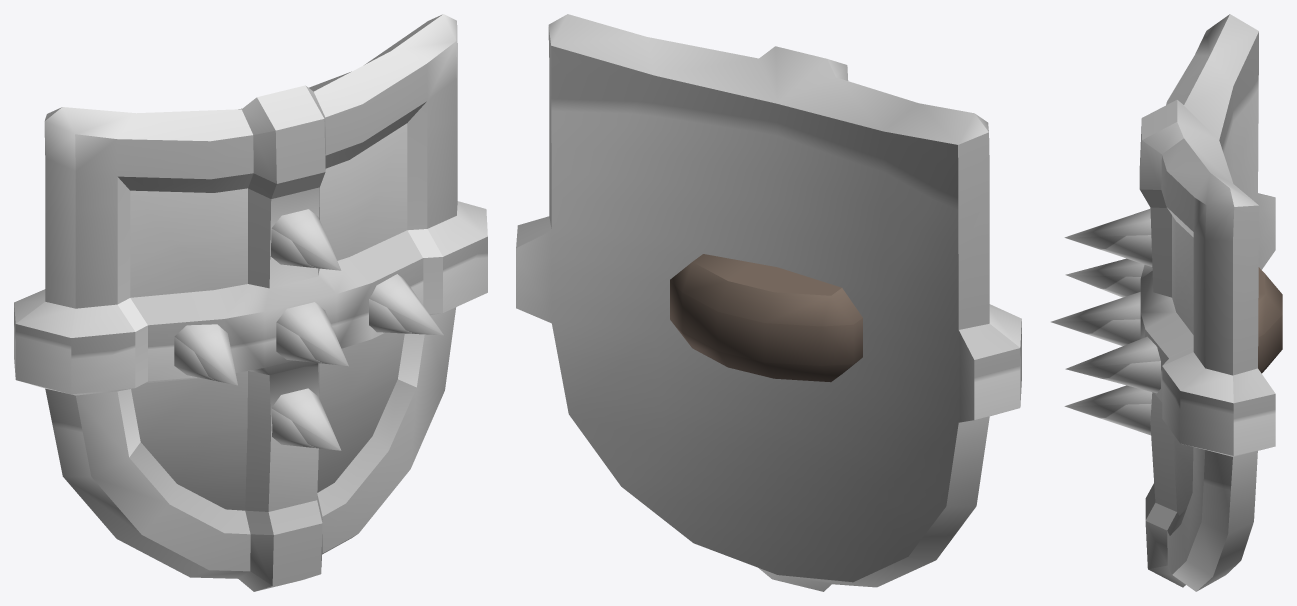
Rendered from escudo_puas.glb.
The picture shows the model from 3 angles, left to right: view 1: azimuth 30°, elevation 25°; view 2: azimuth 150°, elevation 25°; view 3: azimuth 270°, elevation 25°; orthographic projection. The views are drawn at different scales.
Visible parts, largest first — view 1: shield_spikes_color; view 2: shield_spikes_color; view 3: shield_spikes_color.
Boxes of the visible parts, x1,y1,x2,y2 form: shield_spikes_color: [14, 14, 487, 591]; shield_spikes_color: [516, 14, 1021, 591]; shield_spikes_color: [1051, 14, 1282, 591].
Bounding box in the file's own units: 1.01 × 1.04 × 0.4598.
2 materials, 2 textured.
